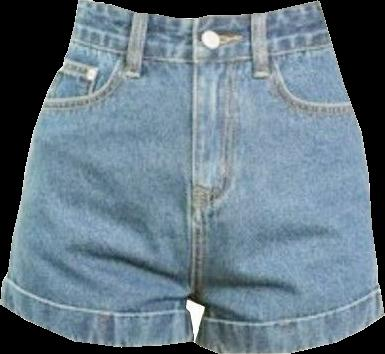Hemline: (0, 301, 194, 346), (196, 313, 384, 353)
Pantleg: (190, 1, 383, 353), (0, 0, 194, 346)
Waistline: (69, 38, 332, 63), (78, 0, 319, 22)
